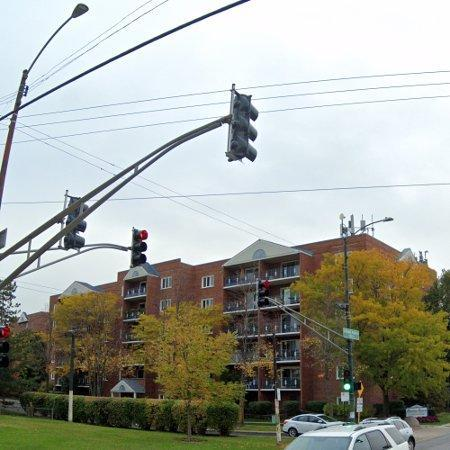traffic lights: (228, 90, 258, 166), (130, 229, 148, 269)
